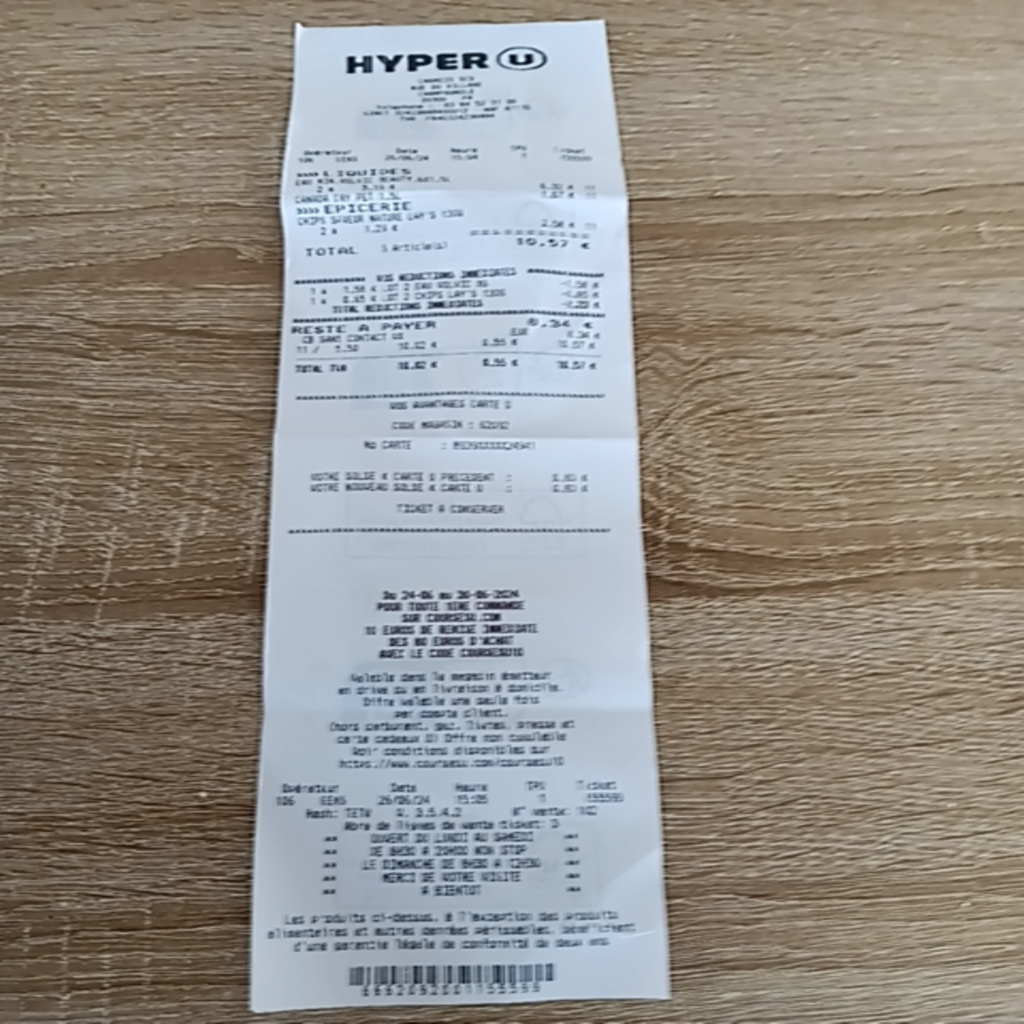recipt: (246, 21, 672, 1009)
